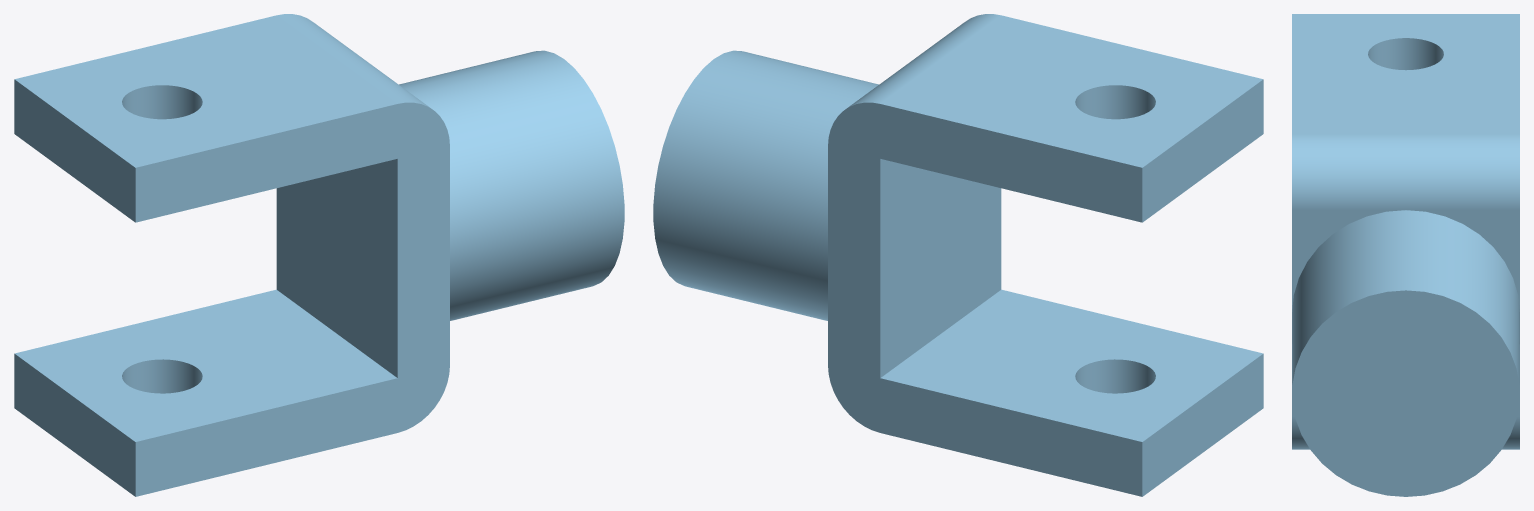
The model's file is holder.dae.
3 renders of one model, left to right at view 1: azimuth 30°, elevation 25°; view 2: azimuth 150°, elevation 25°; view 3: azimuth 270°, elevation 25°, orthographic. The views are drawn at different scales.
Parts seen in each view (by area): view 1: ID2; view 2: ID2; view 3: ID2.
Boxes of the visible parts, bbox=[...] form: ID2: bbox=[14, 14, 624, 496]; ID2: bbox=[653, 14, 1263, 496]; ID2: bbox=[1292, 14, 1519, 496].
Size of the model in its own units: 0.028 by 0.012 by 0.018.
